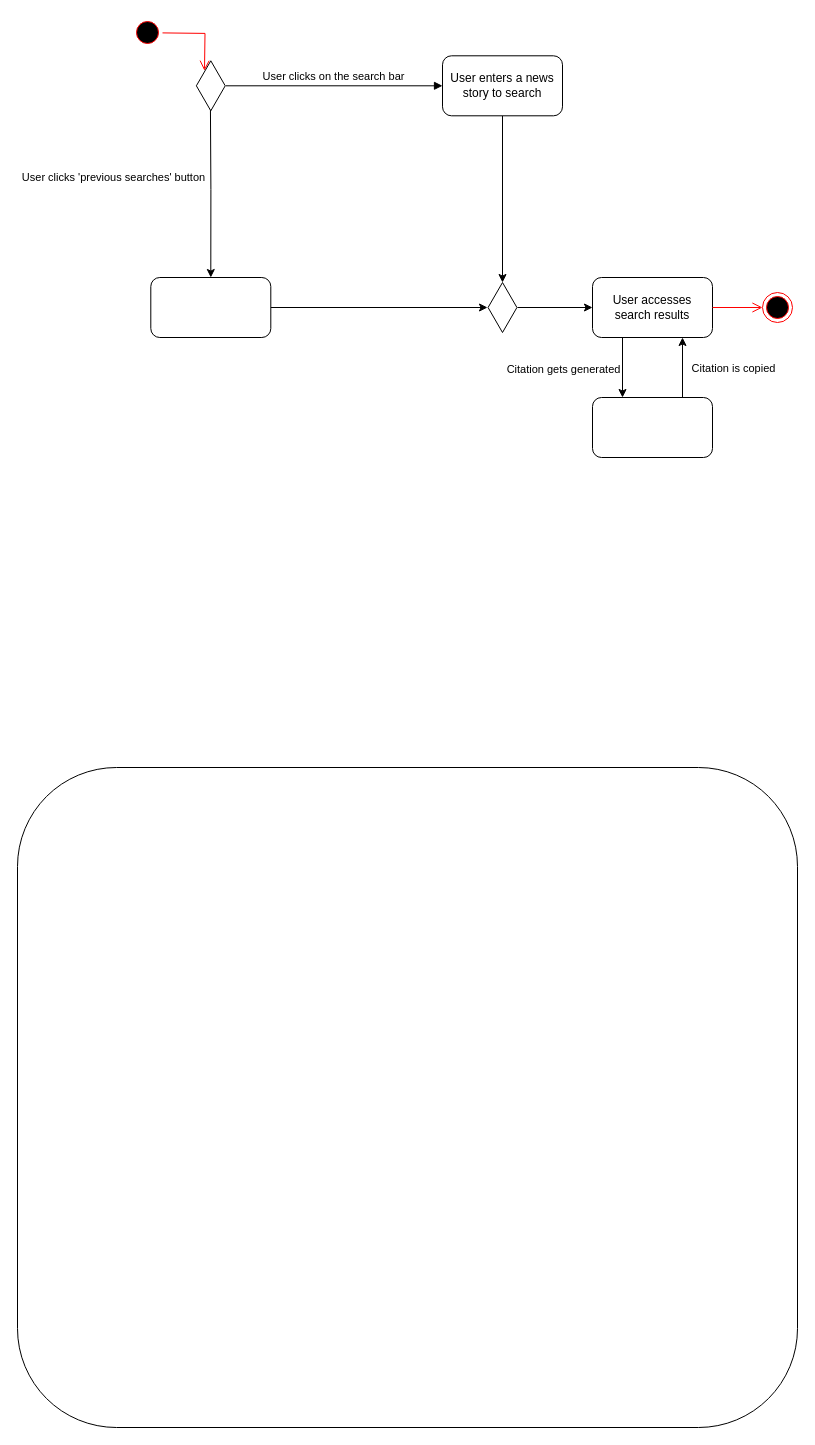
Some shapes in this 815 by 1445 pixel diagram are drawn without their labels. The centre of each missing label's shape, as x and y in pixels:
"User accesses previous searches" belongs at pixel 210 307.
"User cites their source" belongs at pixel 652 427.
